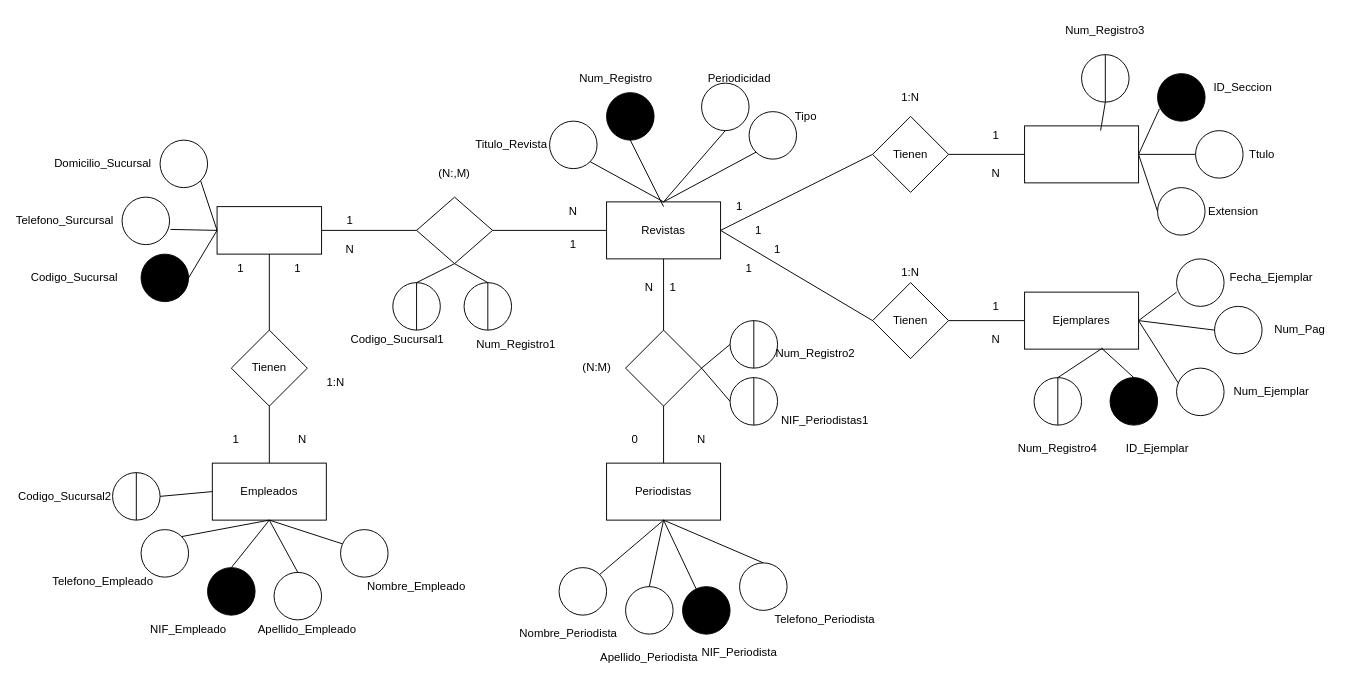
Some shapes in this 1345 by 688 pixel diagram are drawn without their labels. Each missing label, with the box of its shape:
Escriben: (625, 329, 702, 406)
Publican: (416, 196, 493, 264)
Secciones: (1024, 125, 1139, 183)
Sucursales: (216, 206, 322, 254)
